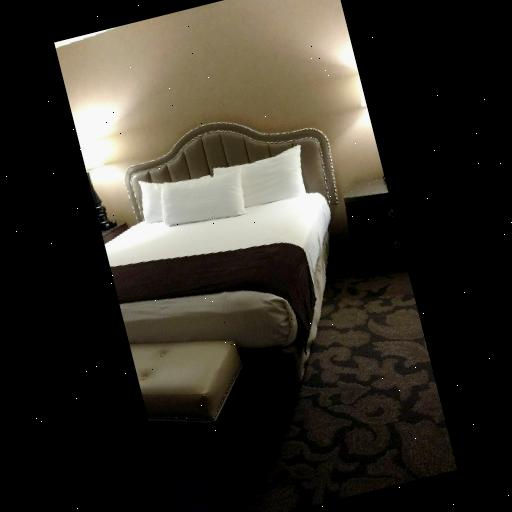clean_bed: (104, 119, 345, 347)
organised_pillow: (138, 142, 314, 240)
